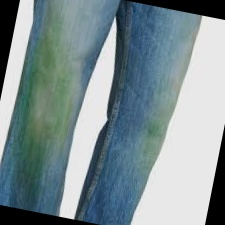earth: (13, 36, 80, 165), (138, 108, 165, 153)
